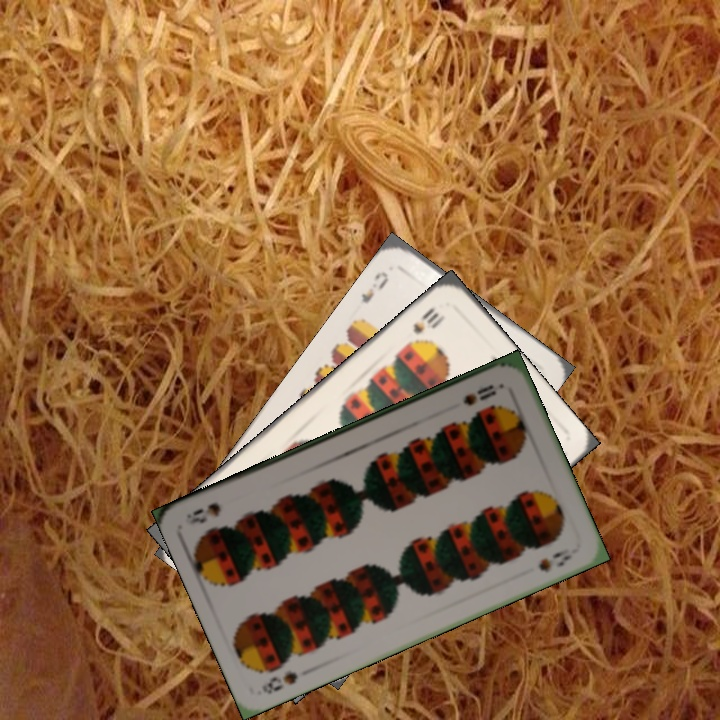E9: (357, 267, 392, 306)
S10: (408, 304, 448, 337)
S8: (257, 667, 301, 697), (458, 380, 499, 409)
